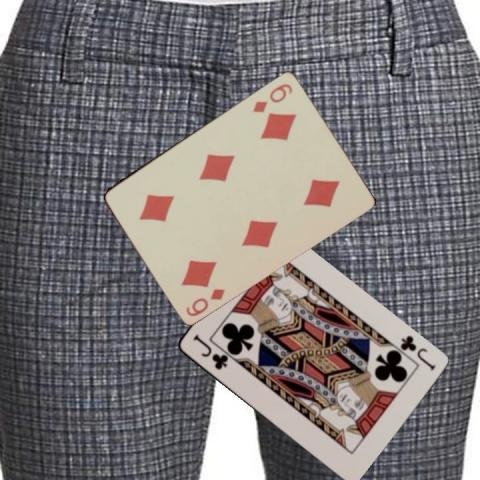6d: (249, 80, 294, 114), (183, 285, 226, 317)
Jc: (396, 332, 436, 372), (189, 332, 229, 371)
